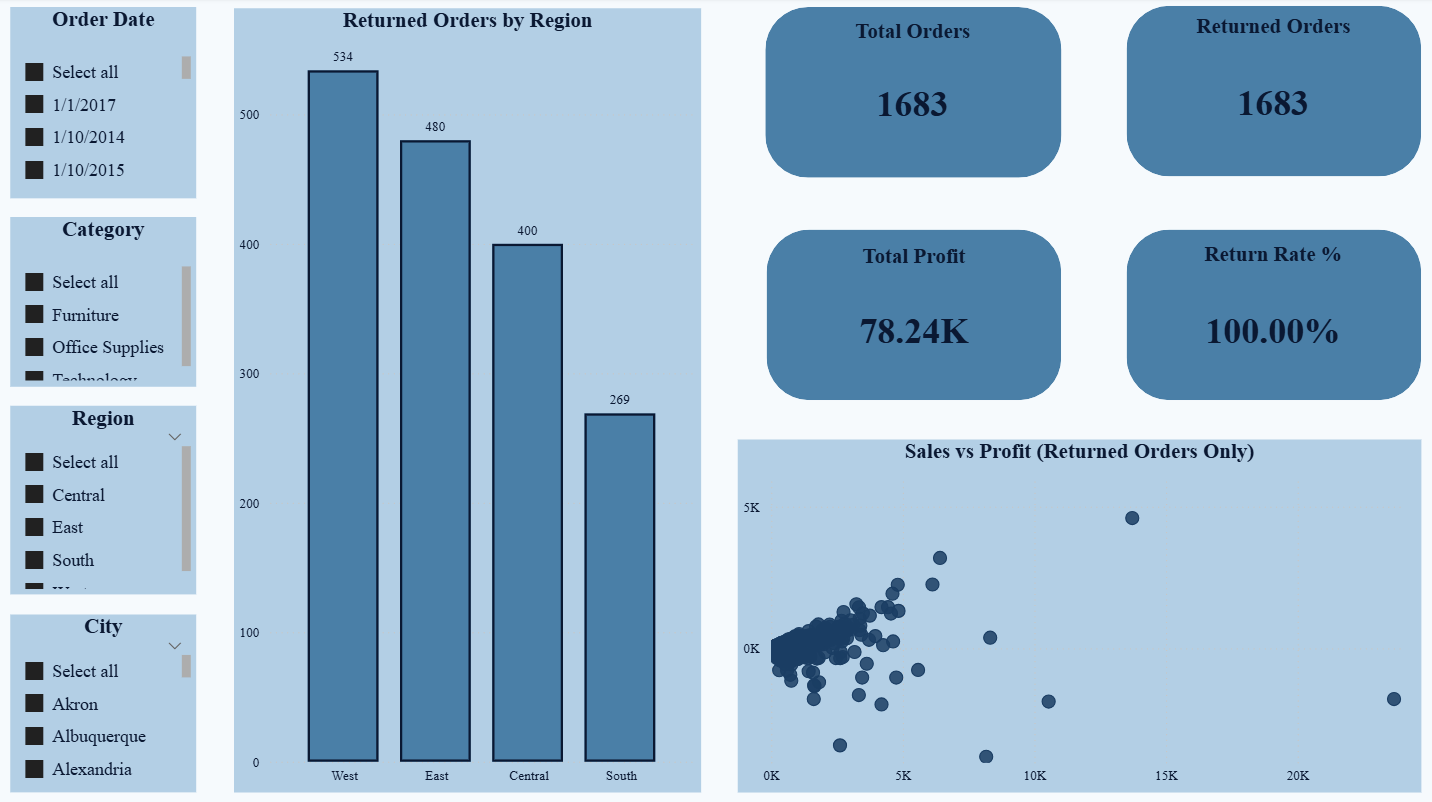

What the dashboard file says about the page in this screenshot:
{"tool":"powerbi","page":{"name":"Returns & Profit Analysis","canvas":[1280,720],"ordinal":3},"visuals":[{"type":"shape","box":[682.8,8.6,263.8,152.1],"z":0},{"type":"card","title":"Total Orders","fields":{"Values":["Sales.Total Orders"]},"box":[700.6,19.6,227,127.6],"z":1000},{"type":"shape","box":[1003.7,7.4,262.6,152.1],"z":2000},{"type":"card","title":"Returned Orders","fields":{"Values":["People.Returned Orders"]},"box":[1020.9,16,228.2,133.7],"z":3000},{"type":"shape","box":[1003.7,207.4,262.6,152.1],"z":4000},{"type":"card","title":"Return Rate %","fields":{"Values":["People.Return Rate %"]},"box":[1024.5,218.4,220.9,136.2],"z":5000},{"type":"shape","box":[683.4,207.4,262.6,152.1],"z":6000},{"type":"card","title":"Total Profit","fields":{"Values":["Sales.Total Profit"]},"box":[695.7,220.9,238,131.3],"z":7000},{"type":"clusteredColumnChart","title":"Returned Orders by Region","fields":{"Category":["Sales.Region"],"Y":["People.Returned Orders"]},"box":[209.8,9.8,416,698.2],"z":8000},{"type":"scatterChart","title":"Sales vs Profit (Returned Orders Only)","fields":{"X":["Sales.Total Sales"],"Y":["Sales.Total Profit"],"Category":["Sales.Order ID"]},"box":[657.7,393.9,608.6,314.1],"z":9000},{"type":"slicer","title":"Category","fields":{"Values":["Sales.Category"]},"box":[9.8,196.3,165.6,150.9],"z":10000},{"type":"slicer","title":"Region","fields":{"Values":["Sales.Region"]},"box":[9.8,364.4,165.6,168.1],"z":11000},{"type":"slicer","title":"Order Date","fields":{"Values":["Sales.Order Date"]},"box":[9.8,8.6,165.6,170.6],"z":12000},{"type":"slicer","title":"City","fields":{"Values":["Sales.City"]},"box":[9.8,549.7,165.6,158.3],"z":13000}]}

Visuals, with their boxes in screenshot pixels (x1, y1, x2, y2), scaled from the page's 1280x720 canvas onto the 1432x802 screenshot:
shape: <box>764,10,1059,179</box>
"Total Orders" card: <box>784,22,1038,164</box>
shape: <box>1123,8,1417,178</box>
"Returned Orders" card: <box>1142,18,1397,167</box>
shape: <box>1123,231,1417,400</box>
"Return Rate %" card: <box>1146,243,1393,395</box>
shape: <box>765,231,1058,400</box>
"Total Profit" card: <box>778,246,1045,392</box>
"Returned Orders by Region" clusteredColumnChart: <box>235,11,700,789</box>
"Sales vs Profit (Returned Orders Only)" scatterChart: <box>736,439,1417,789</box>
"Category" slicer: <box>11,219,196,387</box>
"Region" slicer: <box>11,406,196,593</box>
"Order Date" slicer: <box>11,10,196,200</box>
"City" slicer: <box>11,612,196,789</box>
